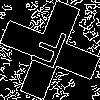F: (25, 25, 70, 79)
